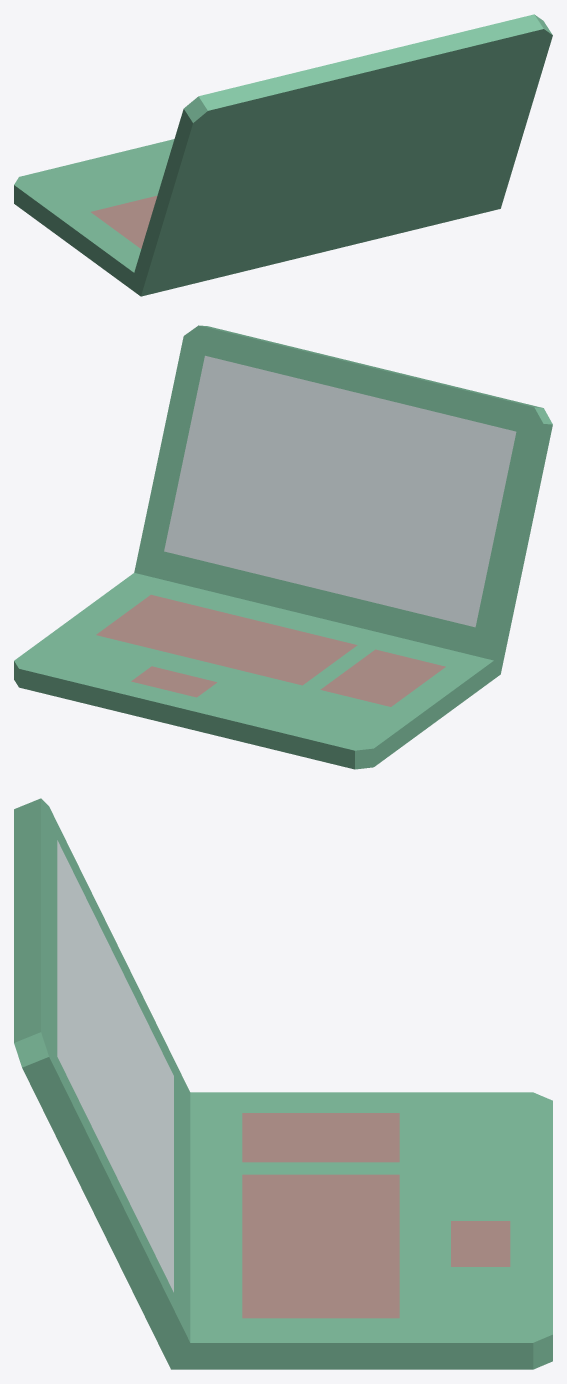
File: Furniture_Laptop_LowPoly.fbx
3 renders of one model, top to bottom at view 1: azimuth 30°, elevation 25°; view 2: azimuth 150°, elevation 25°; view 3: azimuth 270°, elevation 25°, orthographic. The views are drawn at different scales.
Visible parts, largest first — view 1: laptop; view 2: laptop; view 3: laptop.
Boxes of the visible parts, left/top/right/bottom form: laptop: left=14, top=14, right=552, bottom=296; laptop: left=14, top=325, right=552, bottom=769; laptop: left=14, top=798, right=552, bottom=1369.
Size of the model in its own units: 76.88 by 47.12 by 69.91.
